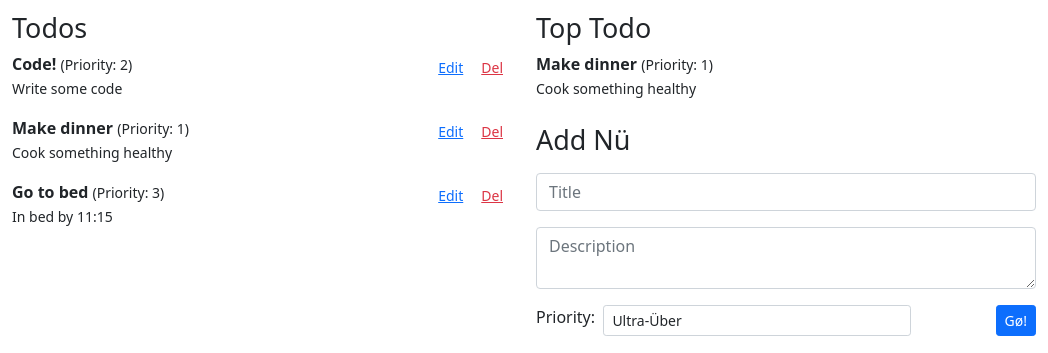
Deleting an item › should delete an item
expect the text "Code!" is shown: met, box [12, 53, 56, 75]
Step 1. Click the button with class "EditableTodo-delBtn" in the row of "Write some code" → point(492, 68), box [472, 52, 512, 83]
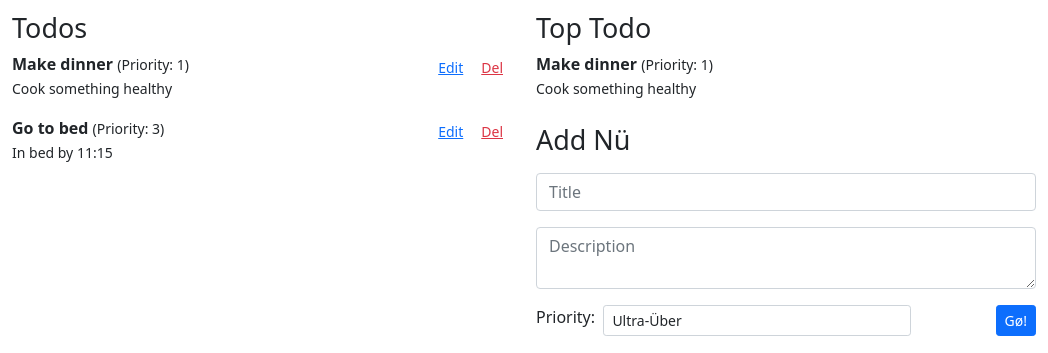
expect the text "Code!" is gone: met
